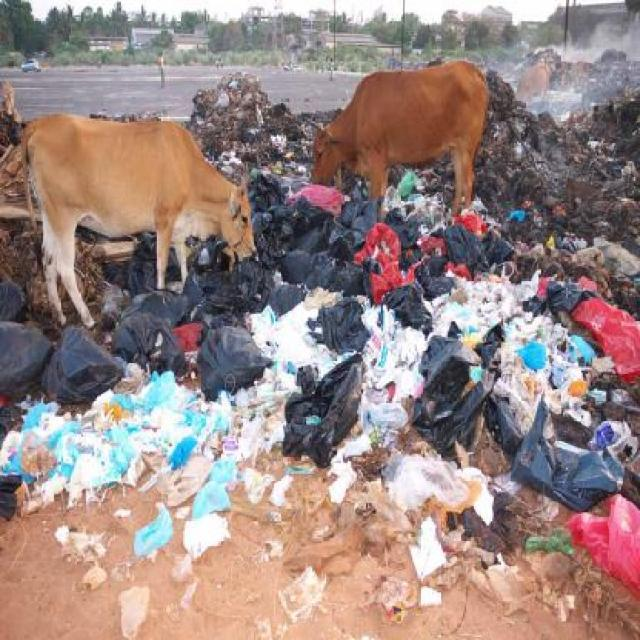garbage: (20, 294, 639, 536), (407, 201, 640, 359), (262, 179, 354, 318), (195, 65, 302, 171)
